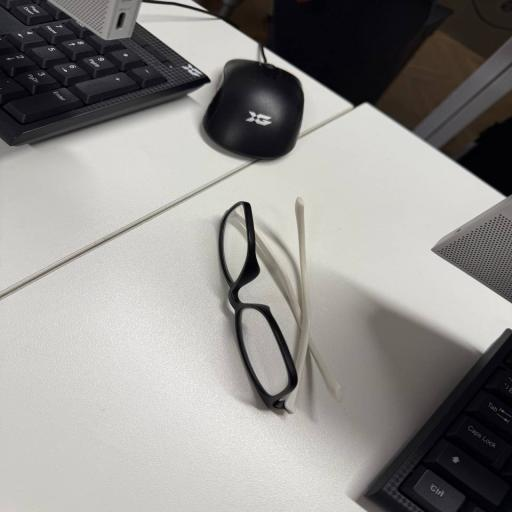phone: (0, 106, 512, 512)
